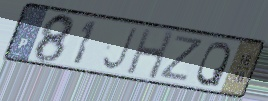1: (74, 20, 98, 67)
8: (33, 12, 77, 65)
H: (124, 26, 176, 82)
J: (100, 25, 139, 72)
Q: (194, 40, 233, 89)
Z: (157, 34, 206, 84)
